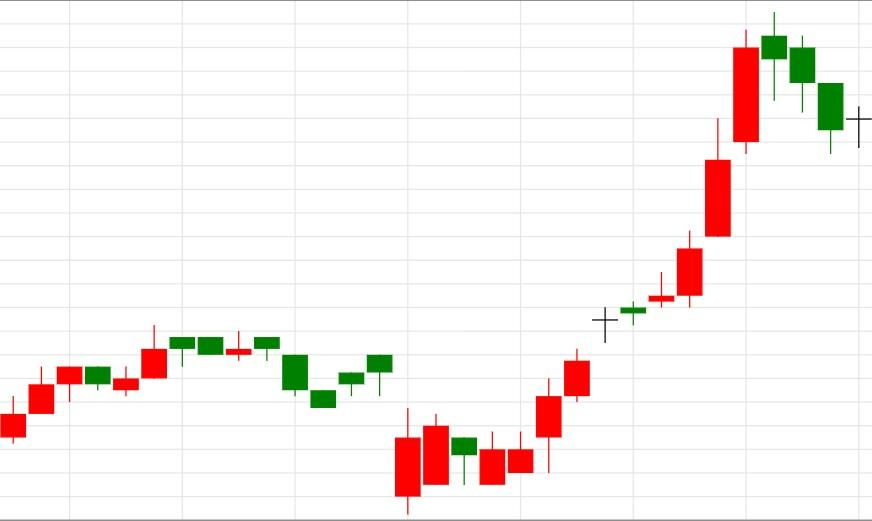three_black_crows_fall: (478, 11, 844, 486)
